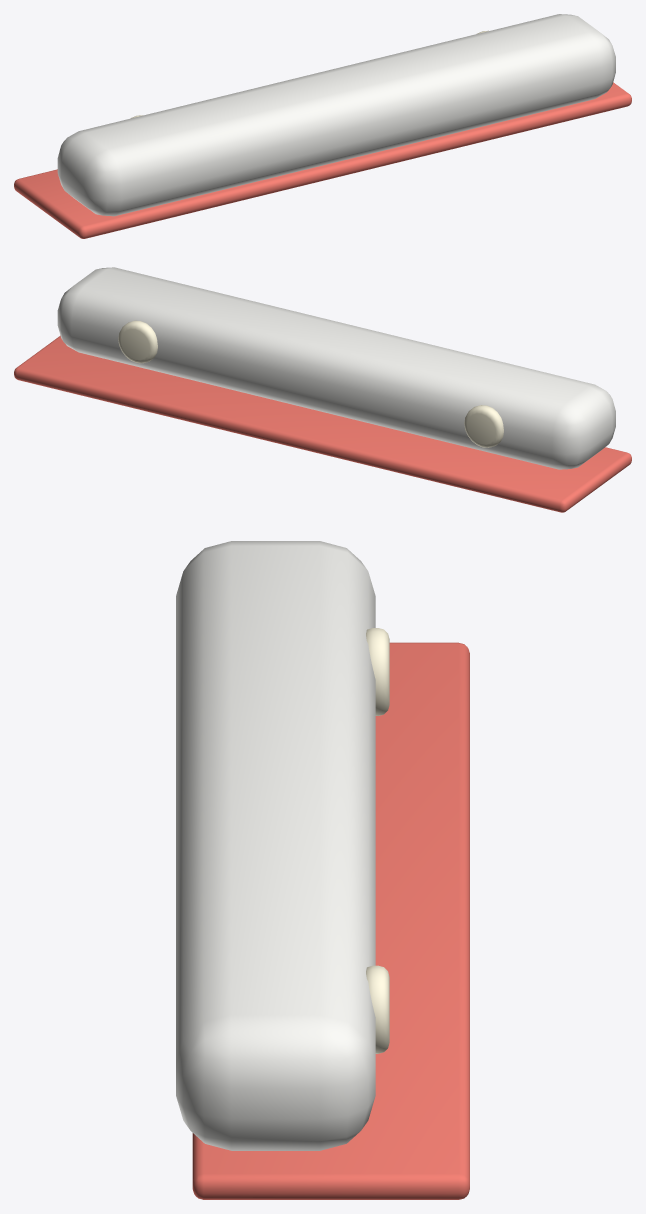
The model's file is Zderzak_Dostawczy_Sportowy_Przod.fbx.
The picture shows the model from 3 angles, top to bottom: view 1: azimuth 30°, elevation 25°; view 2: azimuth 150°, elevation 25°; view 3: azimuth 270°, elevation 25°; orthographic projection. The views are drawn at different scales.
Visible parts, largest first — view 1: Zderzak_Dostawczy_Sportowy_Przod; view 2: Zderzak_Dostawczy_Sportowy_Przod; view 3: Zderzak_Dostawczy_Sportowy_Przod.
Boxes of the visible parts, x1,y1,x2,y2 form: Zderzak_Dostawczy_Sportowy_Przod: [14, 14, 631, 238]; Zderzak_Dostawczy_Sportowy_Przod: [14, 267, 631, 512]; Zderzak_Dostawczy_Sportowy_Przod: [176, 541, 469, 1199].
Bounding box in the file's own units: 2.3 × 0.305 × 0.53.
